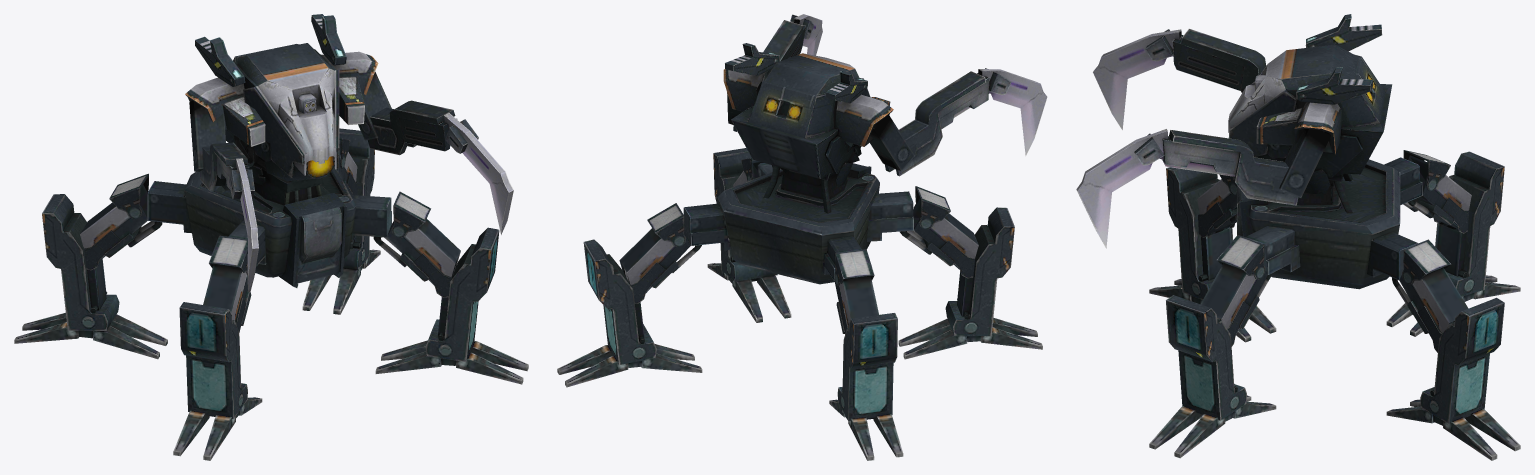
3 views of the same model, side by side, from view 1: azimuth 30°, elevation 25°; view 2: azimuth 150°, elevation 25°; view 3: azimuth 270°, elevation 25° (orthographic). The views are drawn at different scales.
Parts seen in each view (by area): view 1: 20_10; view 2: 20_10; view 3: 20_10.
Part boxes in pixels (x1=…): 20_10: x1=14, y1=14, x2=528, y2=460; 20_10: x1=557, y1=14, x2=1047, y2=460; 20_10: x1=1076, y1=14, x2=1520, y2=460.
Bounding box in the file's own units: 301 × 255 × 312.
